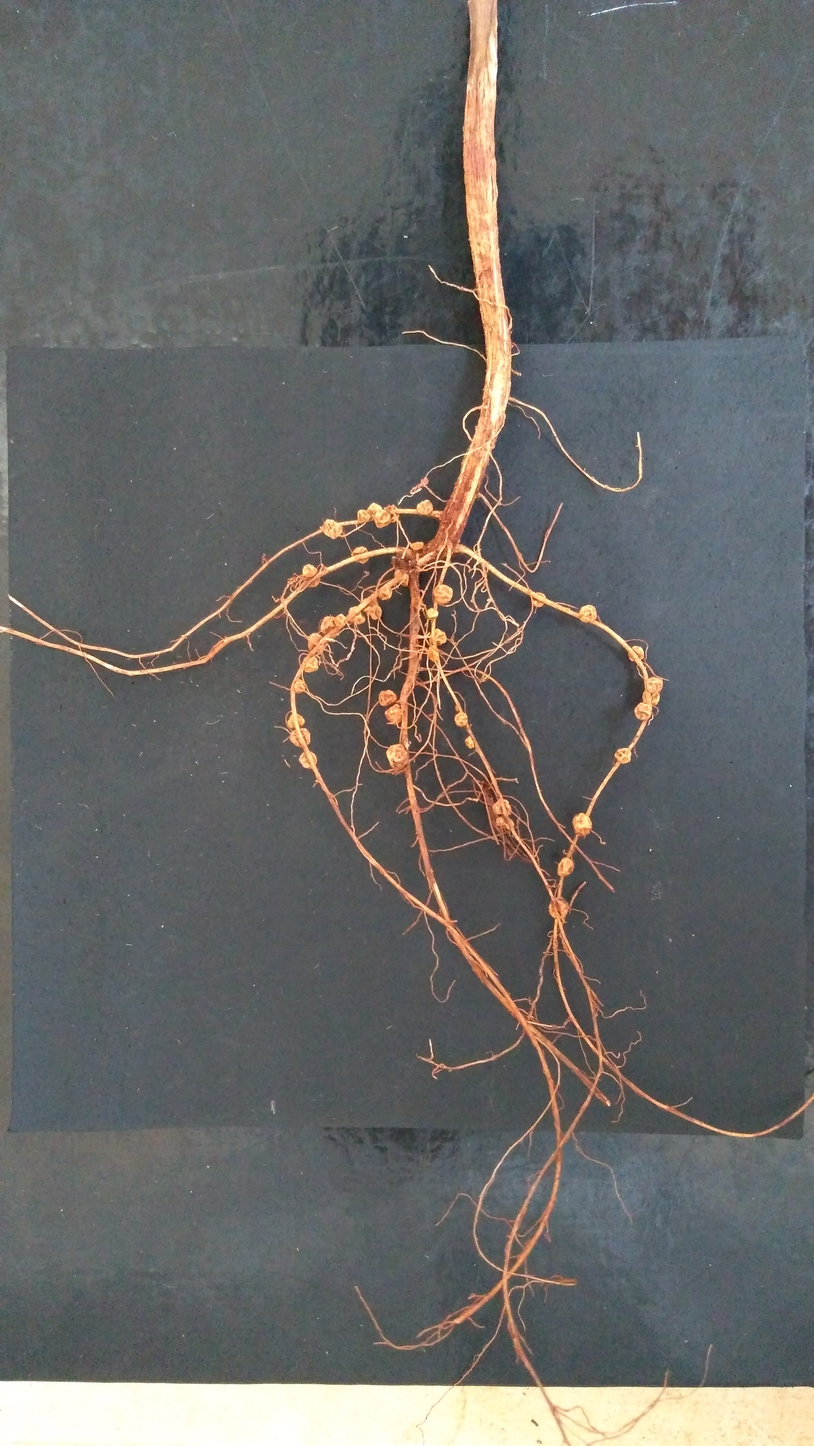nodule: (390, 551, 418, 574), (387, 744, 409, 769), (548, 897, 570, 919), (361, 598, 382, 620), (572, 813, 592, 836), (320, 616, 341, 637), (321, 519, 342, 539), (302, 564, 320, 587), (289, 728, 310, 747), (433, 584, 453, 603), (308, 633, 326, 653), (385, 704, 402, 725), (557, 857, 575, 876), (299, 751, 317, 769), (634, 702, 652, 720), (579, 605, 597, 623), (348, 606, 365, 625), (351, 546, 369, 563), (429, 628, 446, 646), (375, 509, 391, 528), (378, 690, 397, 706), (492, 799, 511, 815), (647, 676, 663, 694), (614, 748, 631, 764), (287, 713, 305, 728), (642, 691, 660, 706), (395, 568, 409, 587), (495, 816, 514, 829), (417, 499, 432, 515), (628, 646, 644, 661), (531, 592, 546, 607), (385, 506, 399, 522), (304, 657, 318, 672), (454, 712, 468, 727), (294, 678, 306, 694), (357, 509, 370, 523), (378, 587, 392, 600), (334, 613, 347, 627), (428, 645, 439, 661), (425, 607, 438, 620), (367, 503, 380, 515), (409, 542, 424, 551), (465, 735, 474, 749), (455, 703, 461, 711)
